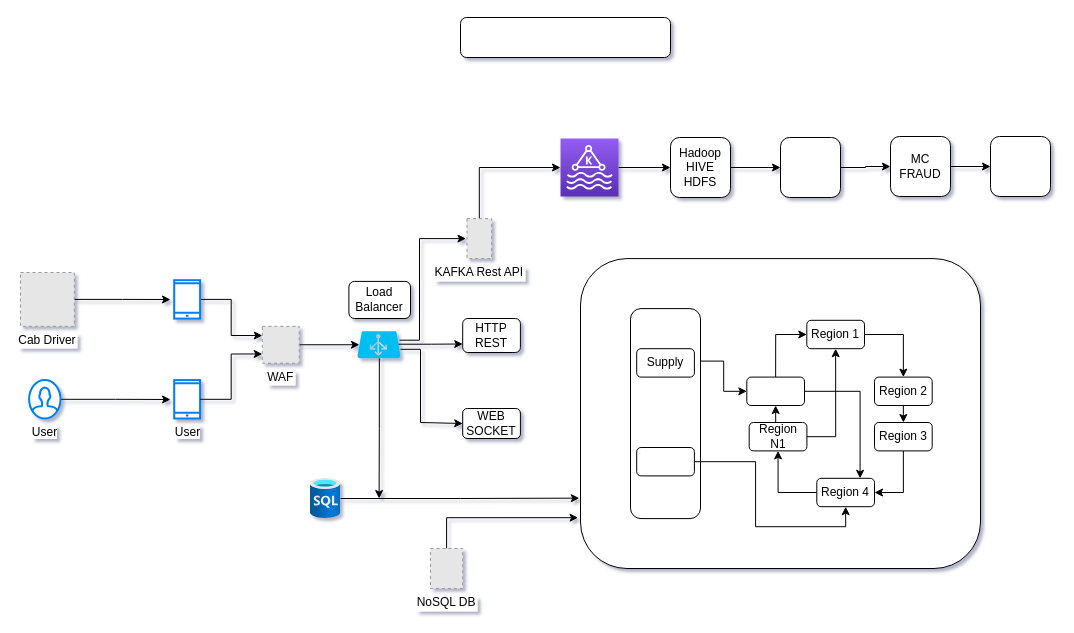
Image size: 1074x633. Some labels were removed from this diagram. Grey dashed boxes stand in for pictures. Each missing label, with the centre of its shape:
"Demand" belongs at point 665,461.
"Driver" belongs at point 187,299.
"Kafka" belongs at point 589,167.
"MAPS ETA" belongs at point 810,167.
"RDBMS" belongs at point 325,498.
"Region N" belongs at point 775,391.
"SPART STORM" belongs at point 1020,166.
"UBER Architecture" belongs at point 565,37.
